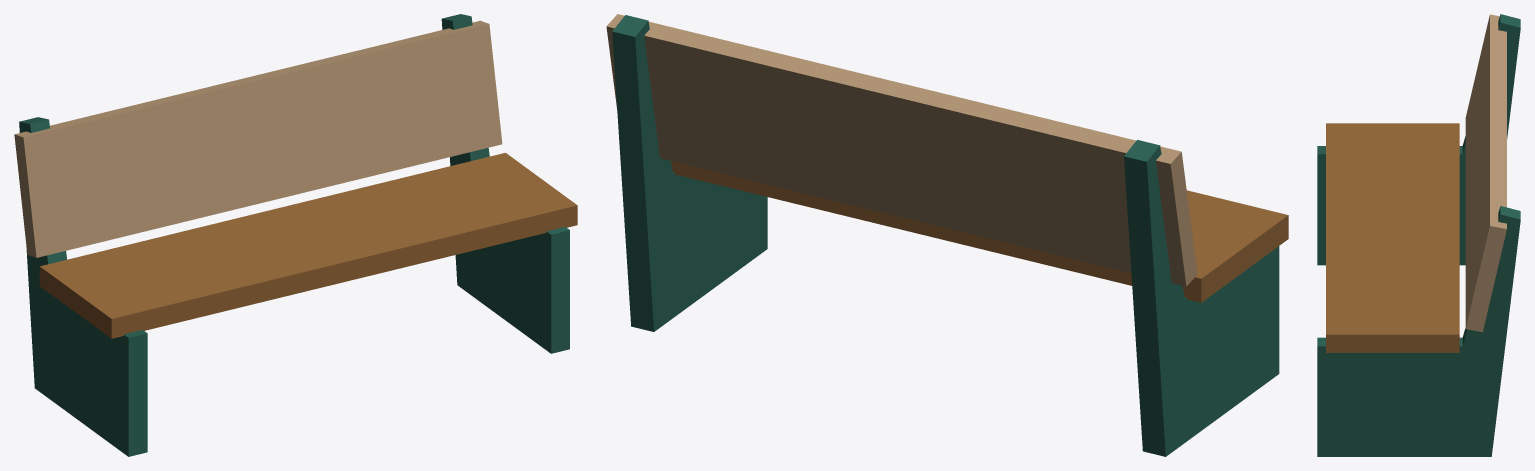
File: prop_bench.glb
3 renders of one model, left to right at view 1: azimuth 30°, elevation 25°; view 2: azimuth 150°, elevation 25°; view 3: azimuth 270°, elevation 25°, orthographic. The views are drawn at different scales.
Visible parts, largest first — view 1: prop_bench; view 2: prop_bench; view 3: prop_bench.
Part boxes in pixels (x1,y1,x2,y2): prop_bench: (14, 14, 577, 456); prop_bench: (606, 14, 1288, 456); prop_bench: (1317, 14, 1520, 456).
Bounding box in the file's own units: 1.72 × 0.92 × 0.7.
